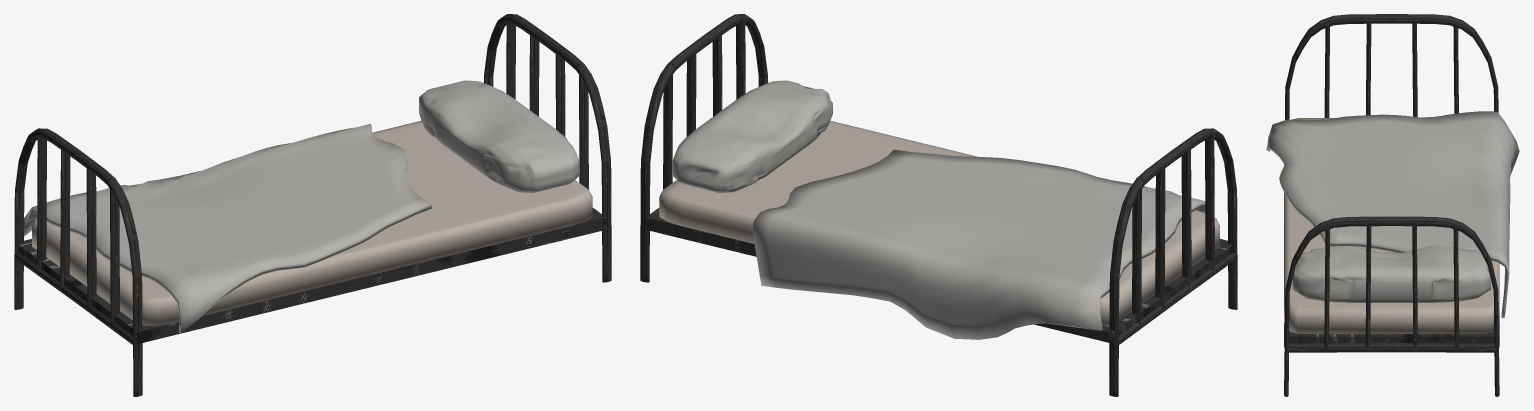
Rendered from Bett.fbx.
3 views of the same model, side by side, from view 1: azimuth 30°, elevation 25°; view 2: azimuth 150°, elevation 25°; view 3: azimuth 270°, elevation 25° (orthographic). The views are drawn at different scales.
Visible parts, largest first — view 1: Plane.002, Cube.007, Cube.008, Plane, Cube.003, Plane.001; view 2: Plane.002, Cube.007, Cube.008, Plane, Plane.001, Cube.003; view 3: Plane.002, Cube.008, Cube.007, Plane.001, Plane, Cube.003.
Boxes of the visible parts, left/top/right/bottom form: Plane.002: left=24, top=123, right=431, bottom=332; Cube.007: left=32, top=120, right=592, bottom=325; Cube.008: left=419, top=80, right=578, bottom=193; Plane: left=14, top=128, right=142, bottom=396; Cube.003: left=18, top=208, right=606, bottom=343; Plane.001: left=483, top=14, right=611, bottom=282; Plane.002: left=752, top=149, right=1205, bottom=339; Cube.007: left=659, top=120, right=1219, bottom=325; Cube.008: left=673, top=80, right=832, bottom=193; Plane: left=1109, top=128, right=1237, bottom=396; Plane.001: left=640, top=14, right=768, bottom=282; Cube.003: left=645, top=208, right=1233, bottom=343; Plane.002: left=1266, top=111, right=1519, bottom=318; Cube.008: left=1292, top=246, right=1490, bottom=302; Cube.007: left=1284, top=118, right=1499, bottom=333; Plane.001: left=1284, top=216, right=1499, bottom=396; Plane: left=1285, top=14, right=1498, bottom=119; Cube.003: left=1284, top=322, right=1499, bottom=347.
Bounding box in the file's own units: 204 × 82.04 × 106.
